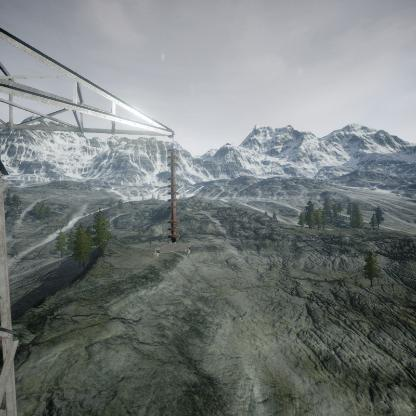insulator: (166, 142, 179, 242)
